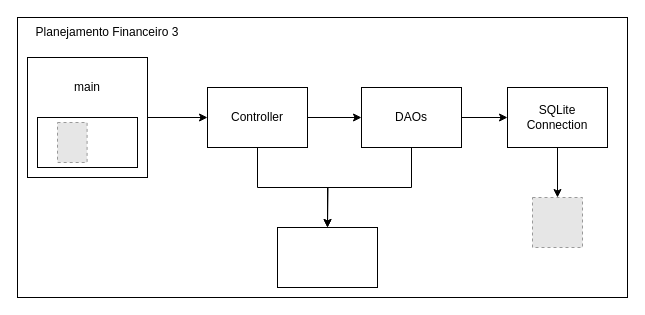
Some shapes in this 645 by 315 pixel diagram are drawn without their labels. Grey dashed boxes stand in for pictures. The shapes that lost their labels are listed below. From the top down, each one's box as (x1, y1, x2, y2) in pixels, then its label:
(36, 116, 138, 168): Flask
(276, 226, 378, 288): Models
